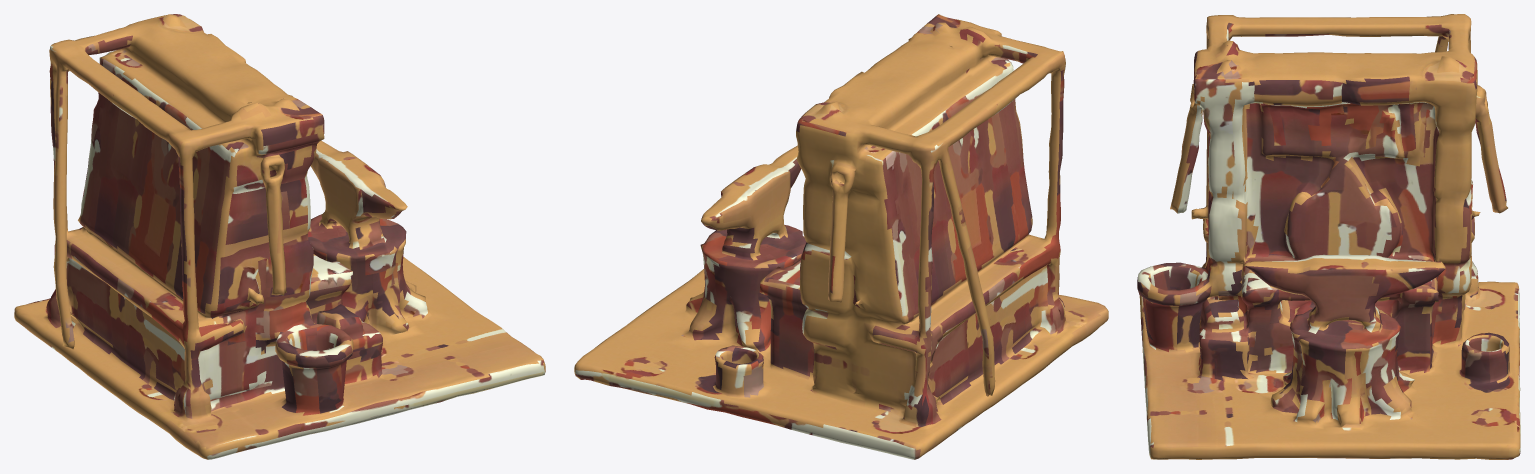
Rendered from B07_BlacksmithForge.fbx.
3 renders of one model, left to right at view 1: azimuth 30°, elevation 25°; view 2: azimuth 150°, elevation 25°; view 3: azimuth 270°, elevation 25°, orthographic. The views are drawn at different scales.
Parts seen in each view (by area): view 1: tripo_node_13ec7a57; view 2: tripo_node_13ec7a57; view 3: tripo_node_13ec7a57.
Boxes of the visible parts, <box> form: tripo_node_13ec7a57: <box>14,14,545,459</box>; tripo_node_13ec7a57: <box>574,14,1108,459</box>; tripo_node_13ec7a57: <box>1137,14,1520,459</box>.
Bounding box in the file's own units: 0.9783 × 0.7837 × 0.9172.
